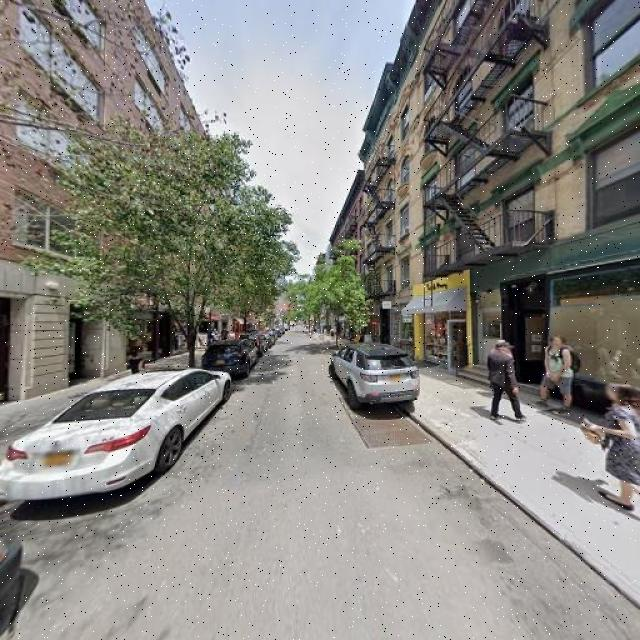Building: (423, 1, 640, 432), (1, 1, 207, 407), (367, 5, 420, 359)
